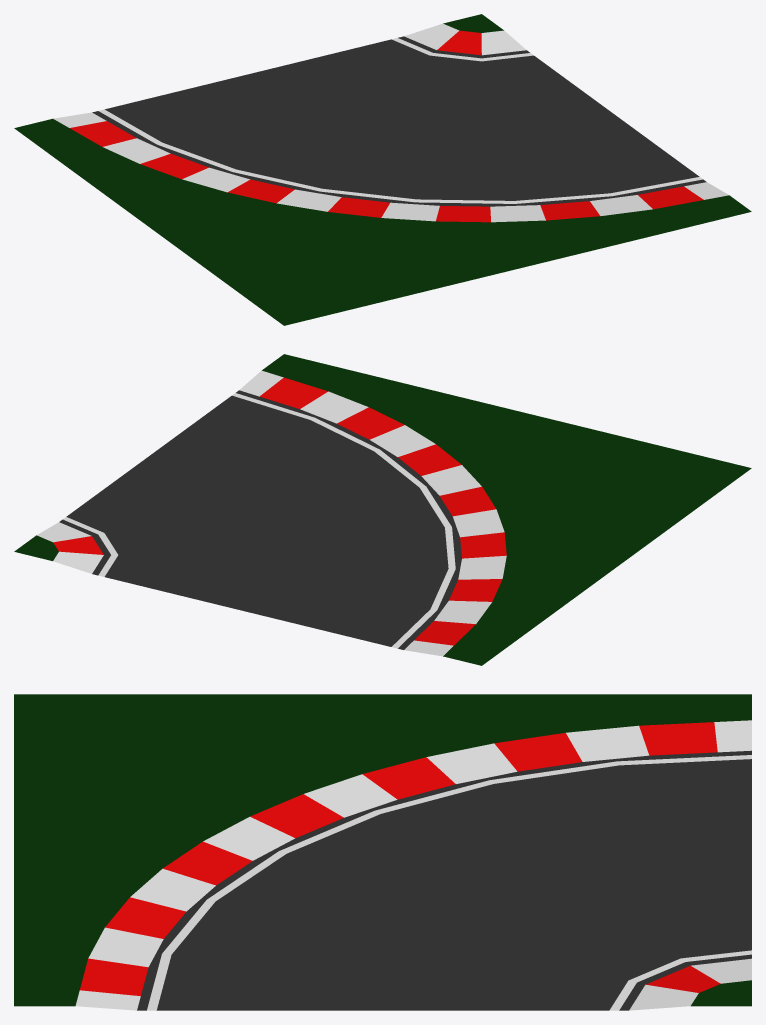
File: ETC0510003.fbx
3 renders of one model, top to bottom at view 1: azimuth 30°, elevation 25°; view 2: azimuth 150°, elevation 25°; view 3: azimuth 270°, elevation 25°, orthographic. The views are drawn at different scales.
Visible parts, largest first — view 1: smETC0510003; view 2: smETC0510003; view 3: smETC0510003.
Boxes of the visible parts, <box> form: smETC0510003: <box>14,14,751,325</box>; smETC0510003: <box>14,354,751,665</box>; smETC0510003: <box>14,694,751,1010</box>.
Size of the model in its own units: 1800 by 12 by 1800.
1 material, 1 textured.
